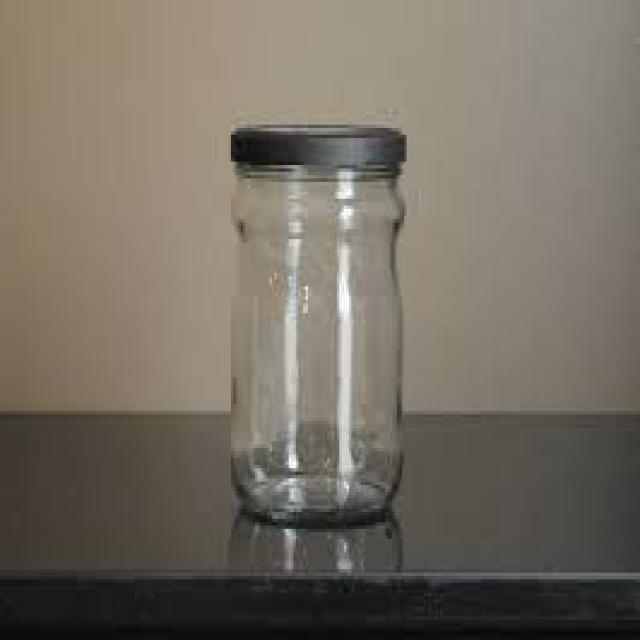glass: (226, 162, 404, 522)
metal: (229, 118, 404, 162)
